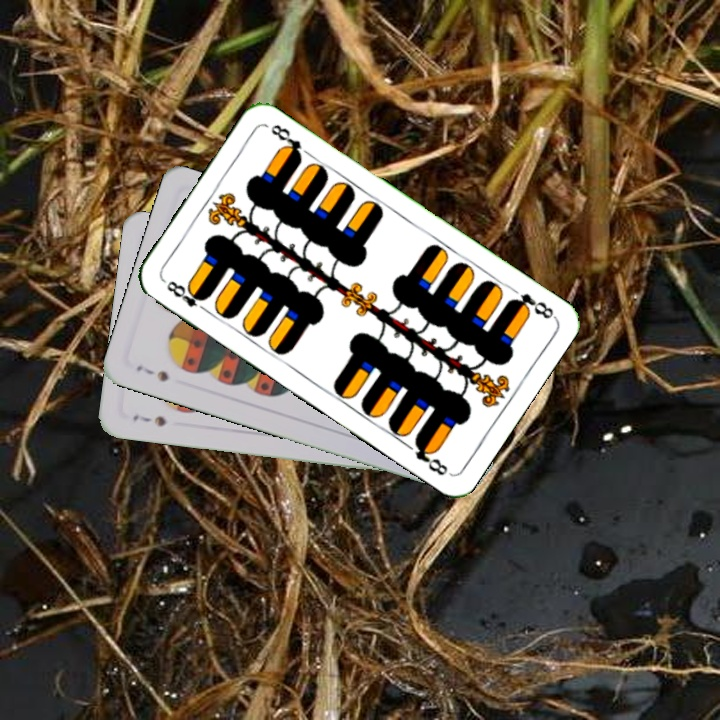E8: (162, 276, 212, 316), (504, 289, 557, 322)
S7: (132, 361, 171, 385), (129, 410, 169, 429)
